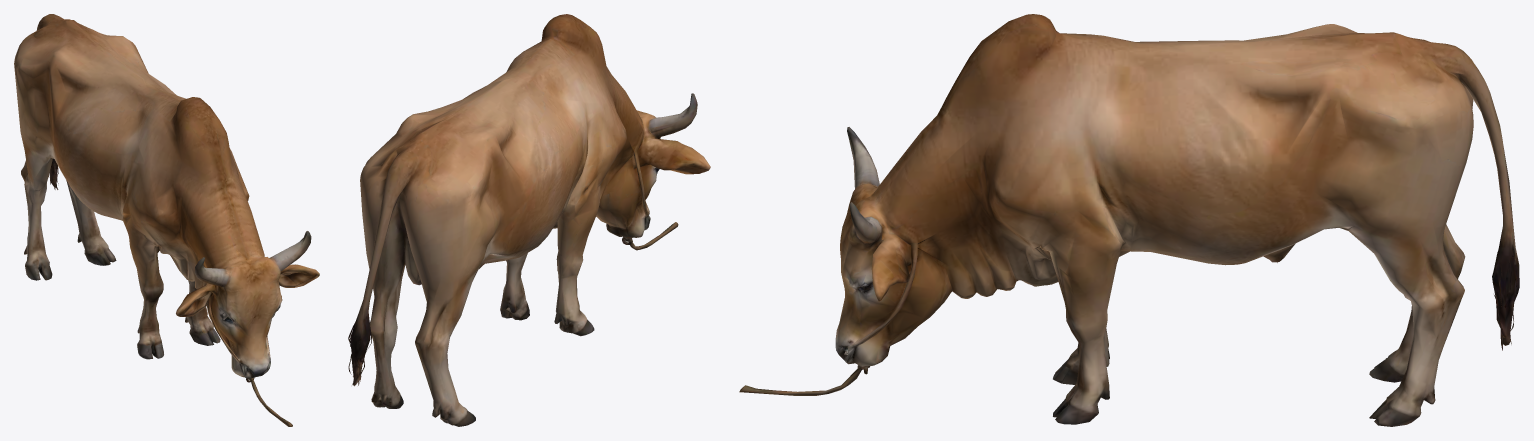
File: cow_lod1.glb
The picture shows the model from 3 angles, left to right: view 1: azimuth 30°, elevation 25°; view 2: azimuth 150°, elevation 25°; view 3: azimuth 270°, elevation 25°; orthographic projection. The views are drawn at different scales.
Parts seen in each view (by area): view 1: node_0; view 2: node_0; view 3: node_0.
Part boxes in pixels (box(x1,y1,x2,y2)): node_0: box(14, 14, 319, 426); node_0: box(348, 14, 710, 426); node_0: box(739, 14, 1519, 426).
Bounding box in the file's own units: 0.3414 × 0.5715 × 1.06.
Materials: 1 (1 with a texture image).
